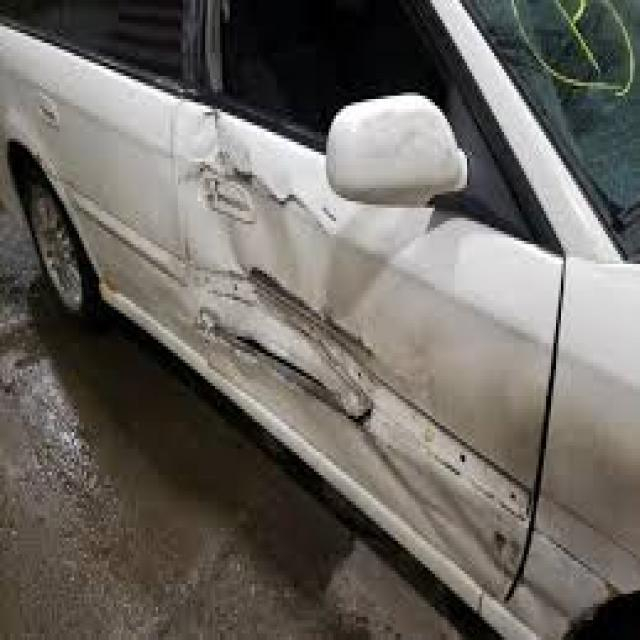damaged-door: (187, 0, 547, 621)
